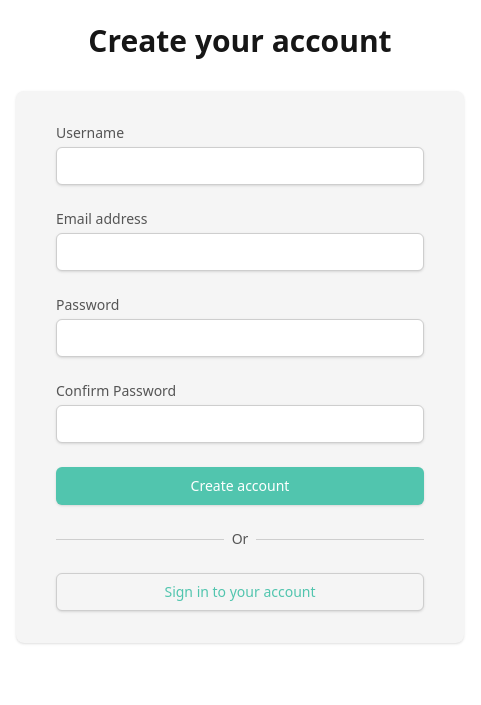
Register Component › should show error when passwords do not match
Type "testuser" into the field labelled "Username".
click(240, 166); type("testuser")  # box x1=56 y1=147 x2=424 y2=185
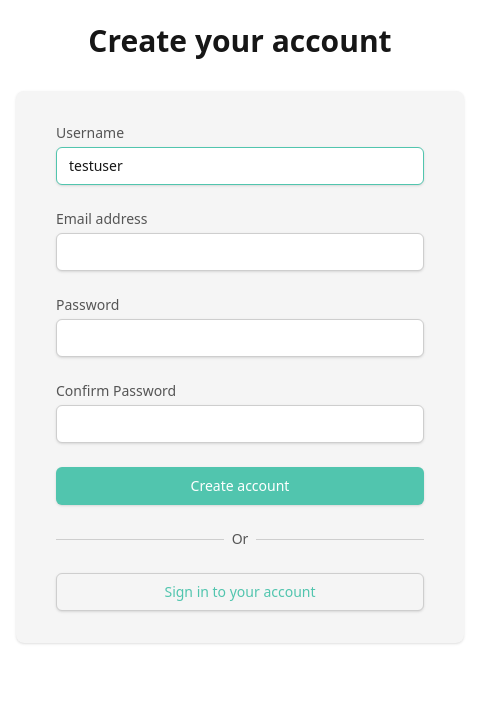
Type "test@example.com" into the field labelled "Email address".
click(240, 252); type("test@example.com")  # box x1=56 y1=233 x2=424 y2=271
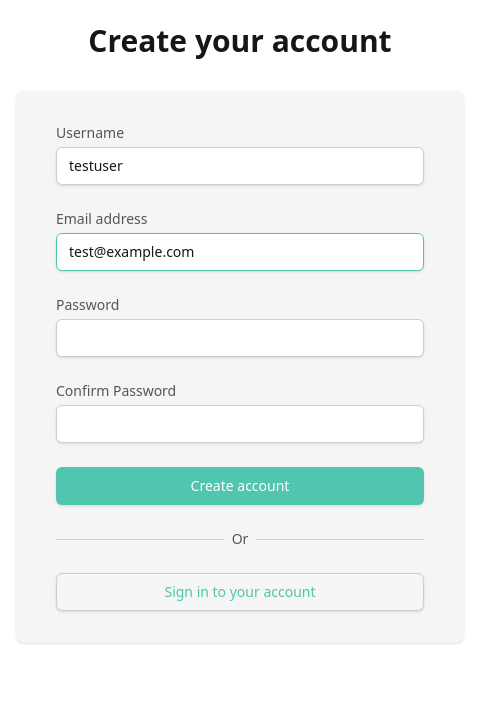
Type "password123" into the password field labelled "Password".
click(240, 338); type("password123")  # box x1=56 y1=319 x2=424 y2=357
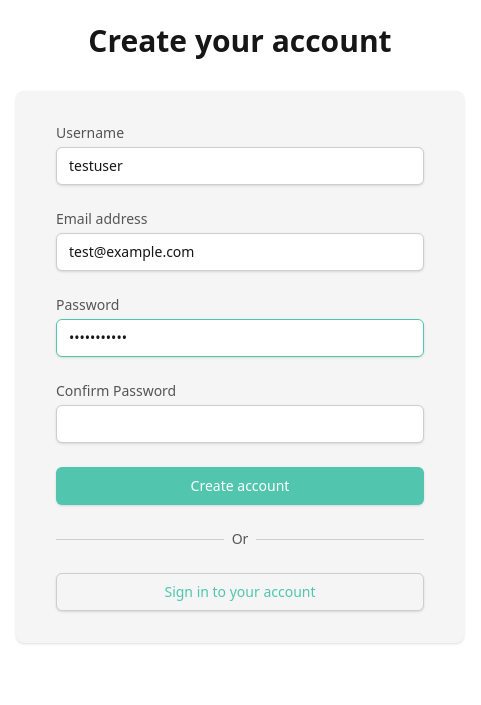
Type "differentpassword" into the password field labelled "Confirm Password".
click(240, 424); type("differentpassword")  # box x1=56 y1=405 x2=424 y2=443
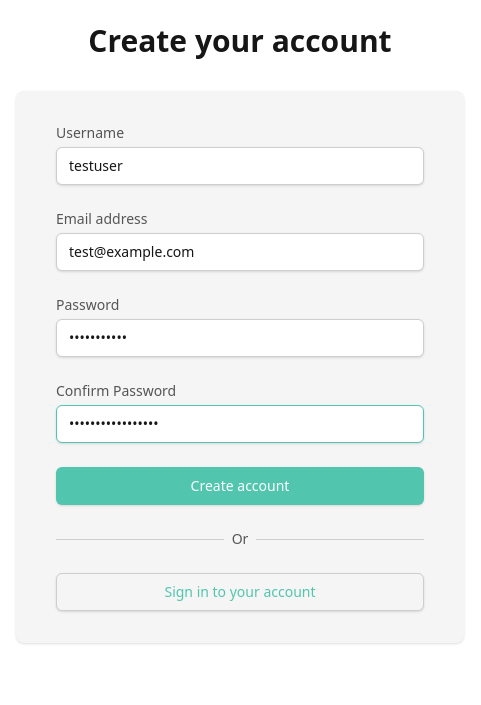
Click the button "Create account".
click(240, 486)  # box x1=56 y1=467 x2=424 y2=505
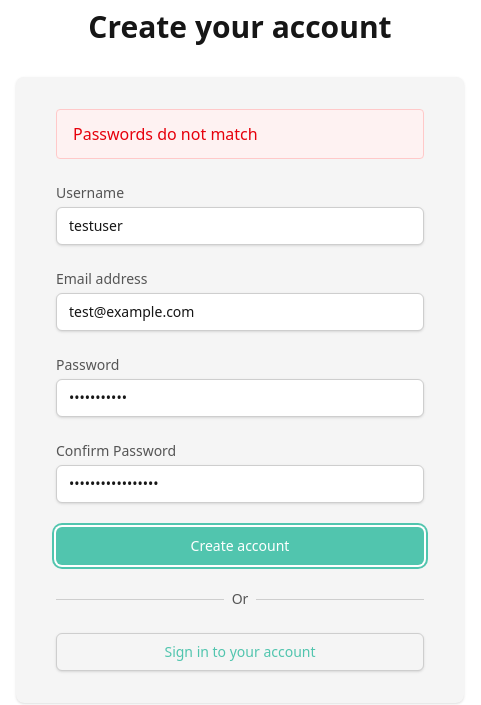
Check: the text "Passwords do not match" is shown, box x1=56 y1=109 x2=424 y2=159
